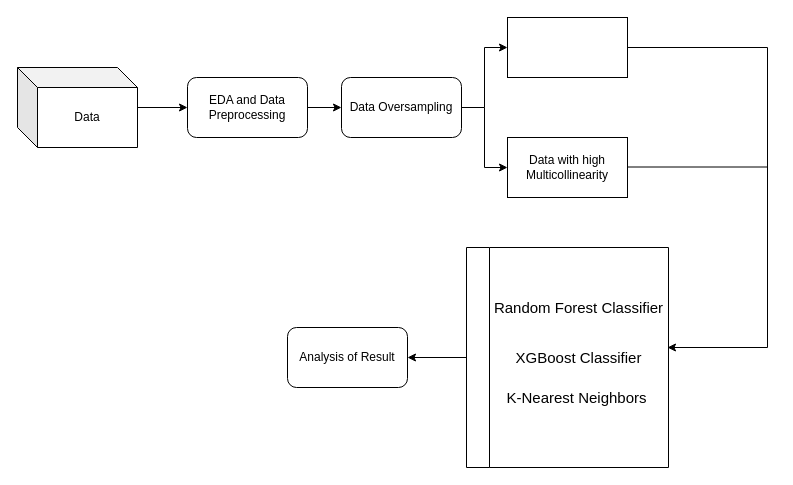
This 793x485 diagram has some shape labels left out. The box of each missing label's shape, as (x1, y1, x2, y2) in pixels:
Data with Less Multicollinearity: (506, 16, 628, 78)
Stratified K-Fold Cross Validation: (466, 246, 668, 468)
